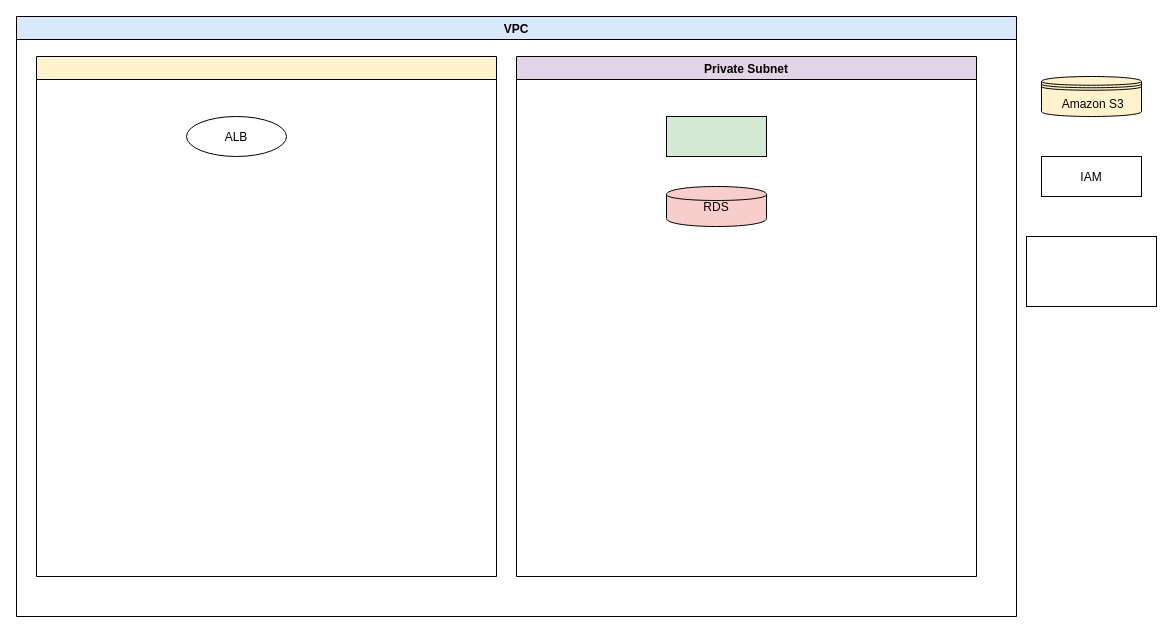
Image size: 1173x633. Some labels were removed from this diagram. Each missing label, with the box of its shape:
AWS CloudTrail, Amazon CloudWatch.: (1026, 236, 1156, 306)
EC2: (666, 116, 766, 156)
Public Subnet: (36, 56, 496, 576)
